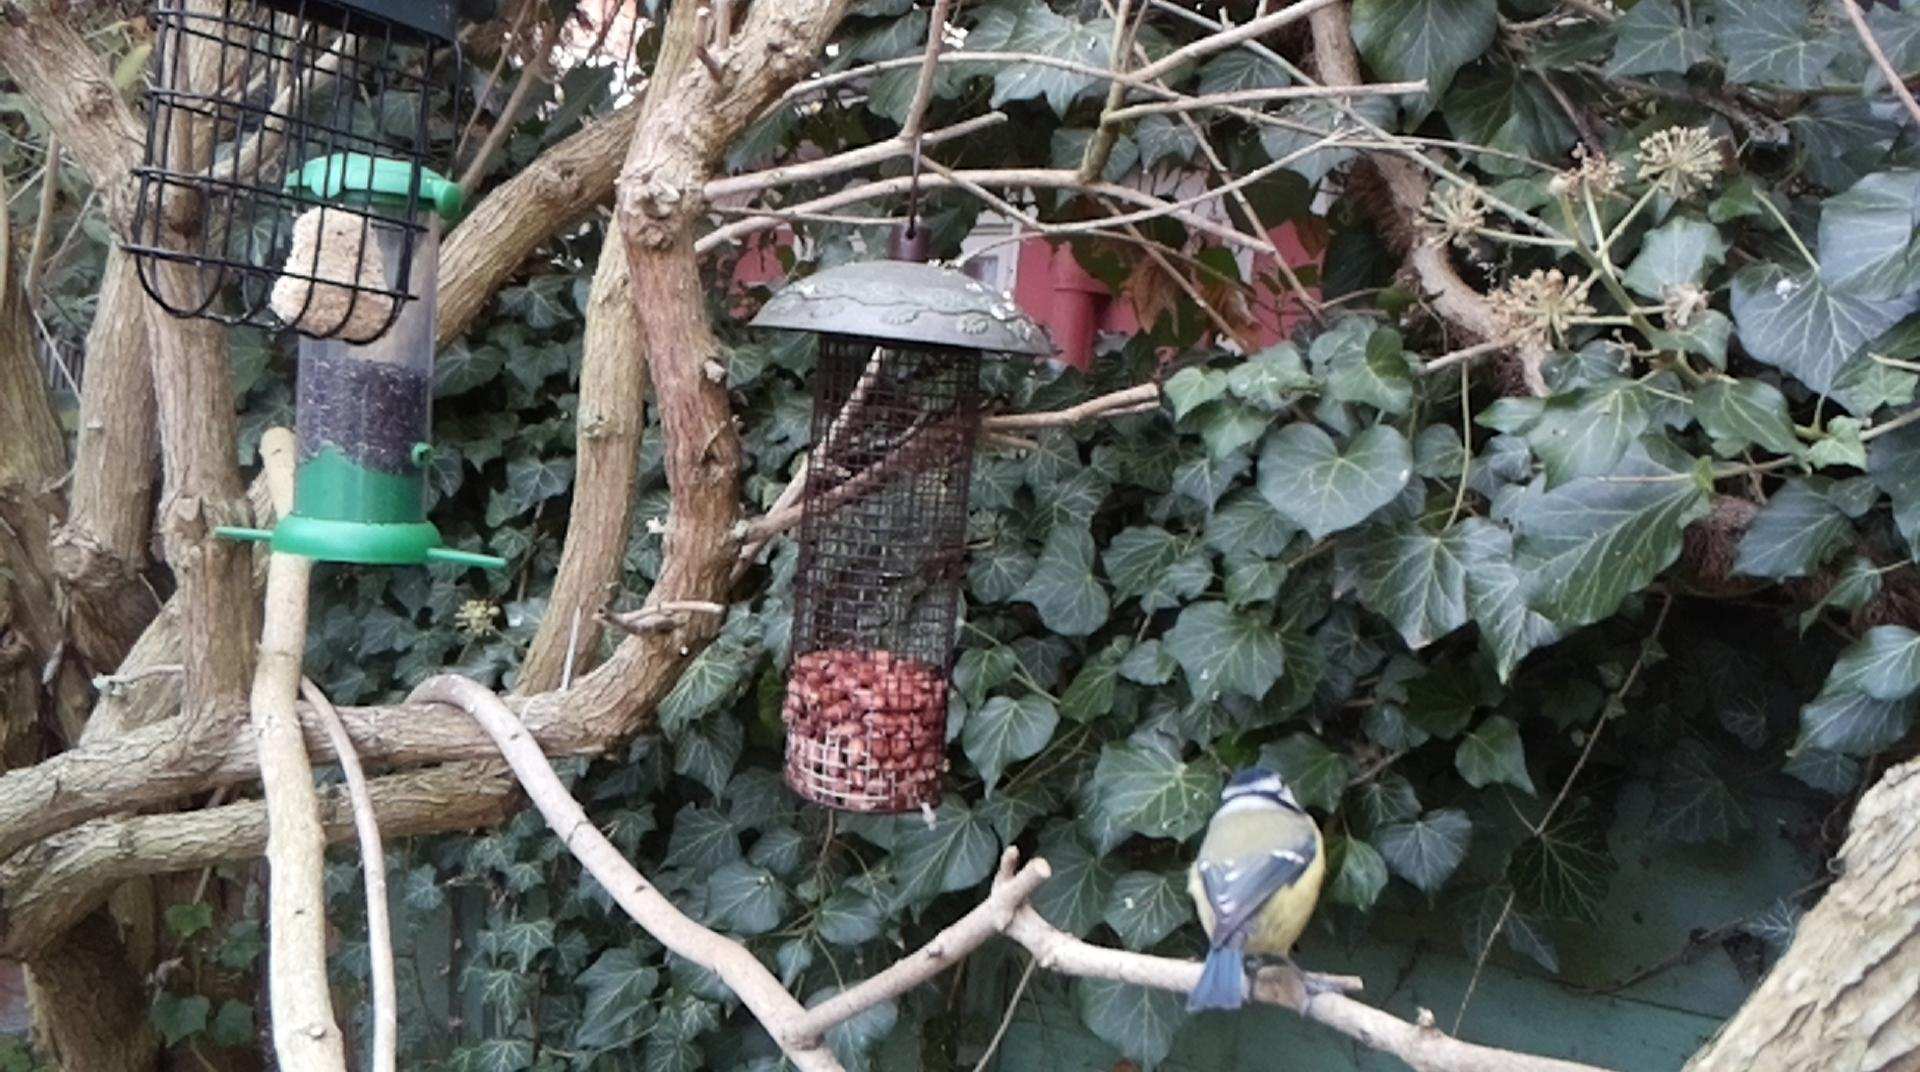blue tit: (1183, 766, 1327, 1011)
